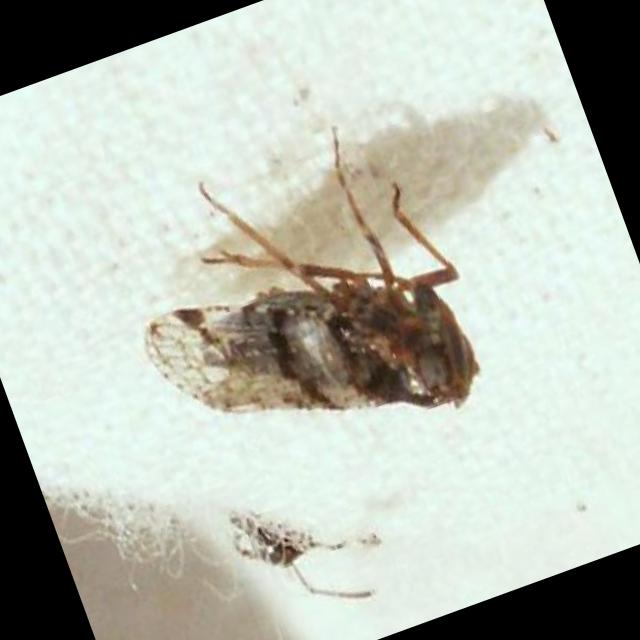brown-planthopper: (138, 218, 498, 502)
